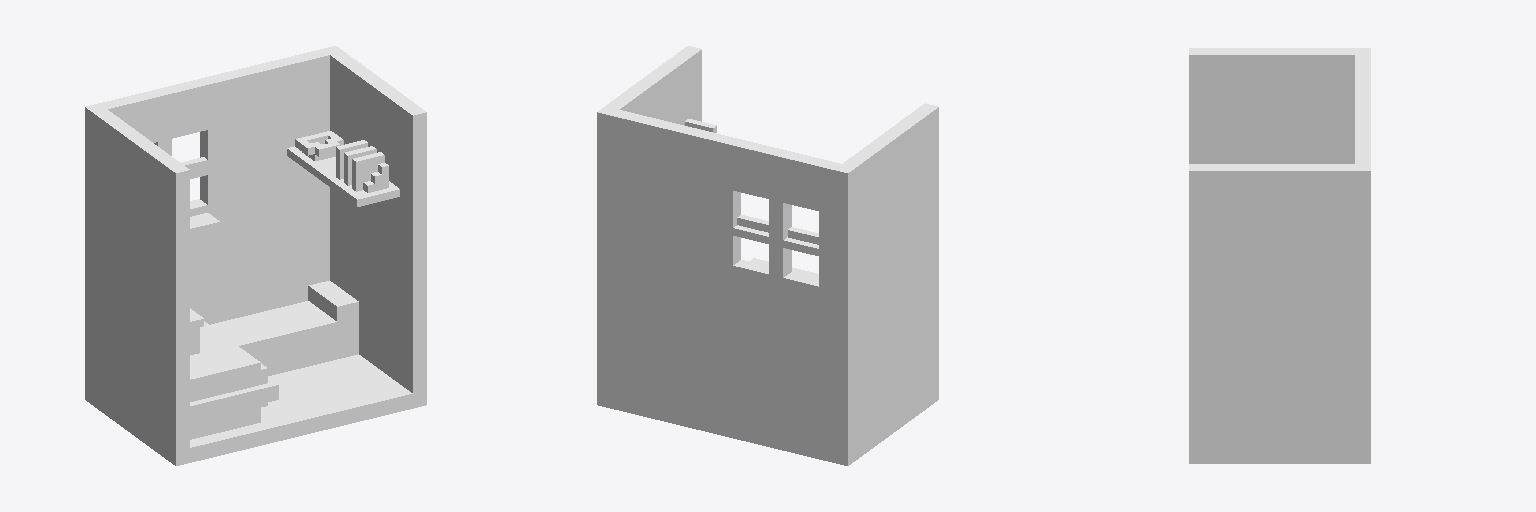
Rendered from badroom.obj.
The picture shows the model from 3 angles: view 1: azimuth 30°, elevation 25°; view 2: azimuth 150°, elevation 25°; view 3: azimuth 270°, elevation 25°; orthographic projection.
Size of the model in its own units: 35 by 39 by 22.